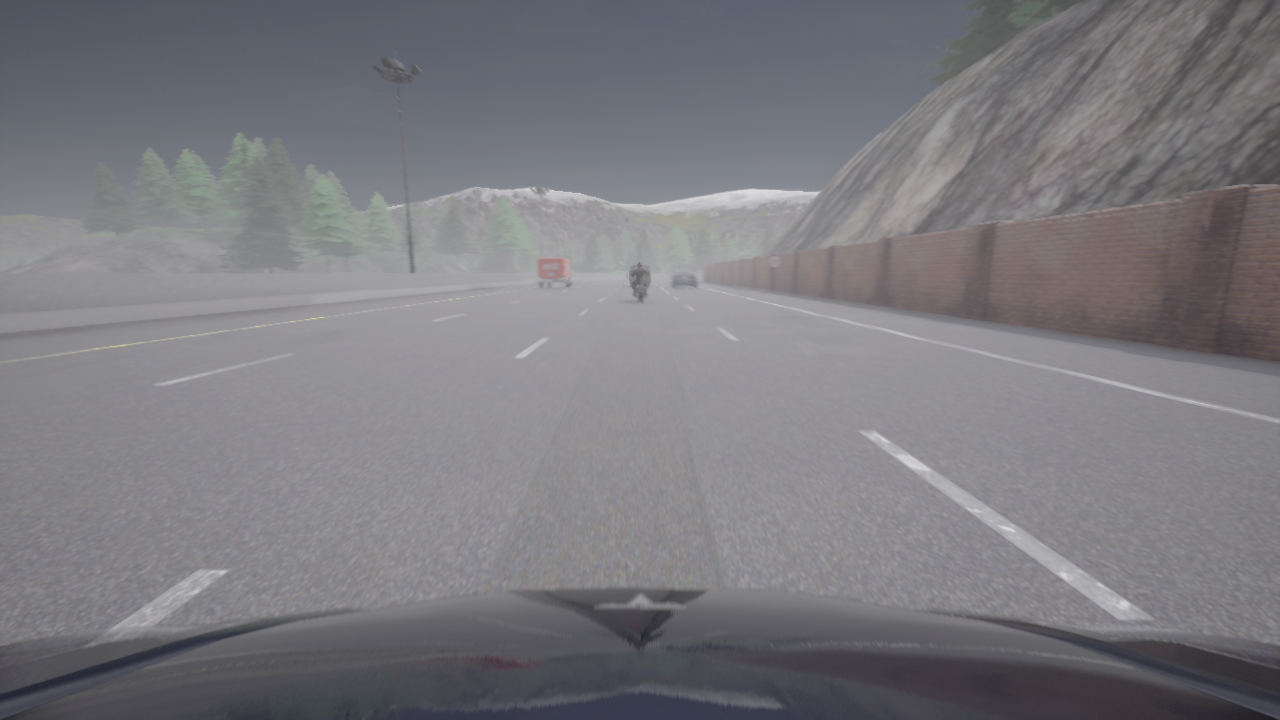cyclist: (0, 588, 1279, 719), (536, 257, 574, 287), (669, 270, 696, 288), (630, 265, 649, 286), (635, 275, 645, 302)
